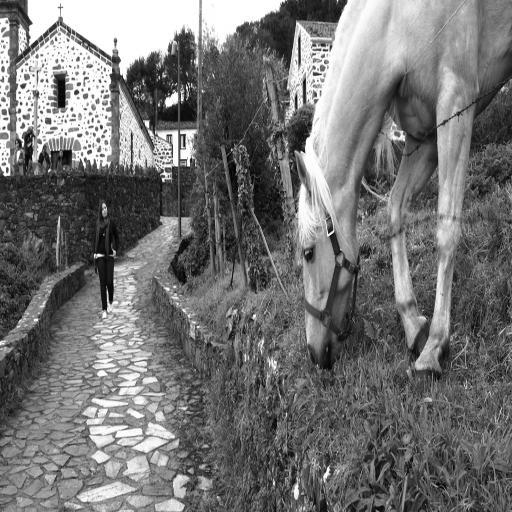Horse: (293, 0, 512, 384)
